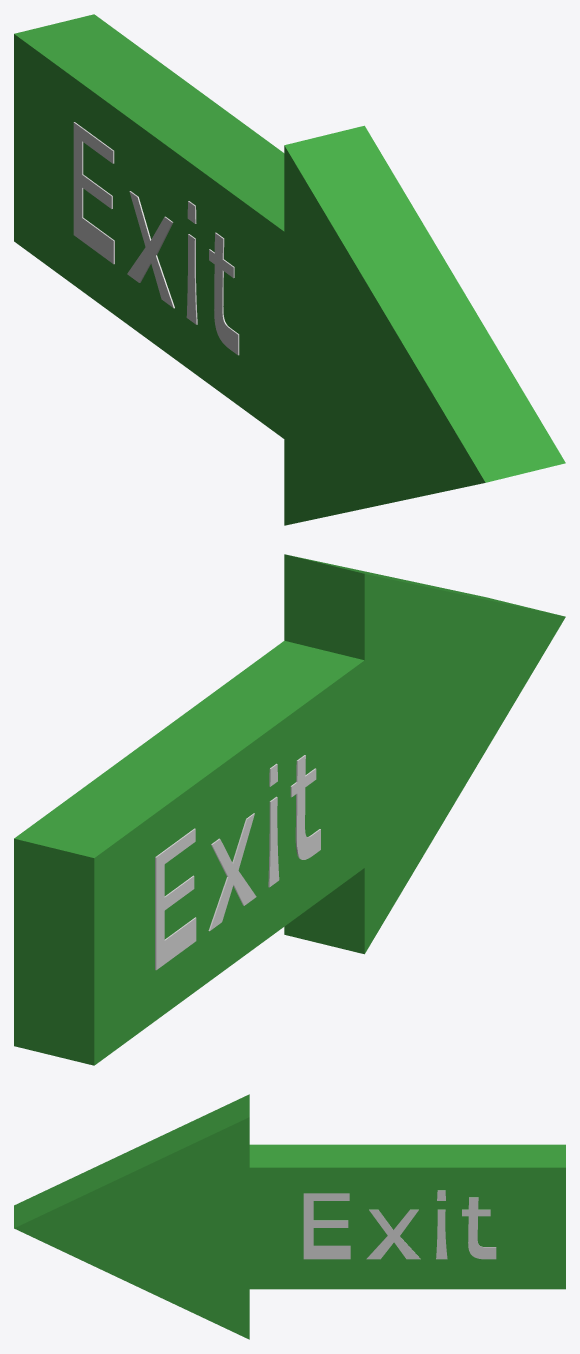
The model's file is Arrow.fbx.
3 renders of one model, top to bottom at view 1: azimuth 30°, elevation 25°; view 2: azimuth 150°, elevation 25°; view 3: azimuth 270°, elevation 25°, orthographic. The views are drawn at different scales.
Parts seen in each view (by area): view 1: pCube1, typeMesh2; view 2: pCube1, typeMesh2; view 3: pCube1, typeMesh1.
Boxes of the visible parts, x1,y1,x2,y2 form: pCube1: [14, 14, 565, 525]; typeMesh2: [73, 122, 239, 355]; pCube1: [14, 554, 565, 1065]; typeMesh2: [155, 755, 320, 970]; pCube1: [14, 1094, 565, 1339]; typeMesh1: [303, 1190, 496, 1259].
Size of the model in its own units: 1.03 by 4.53 by 10.17.
